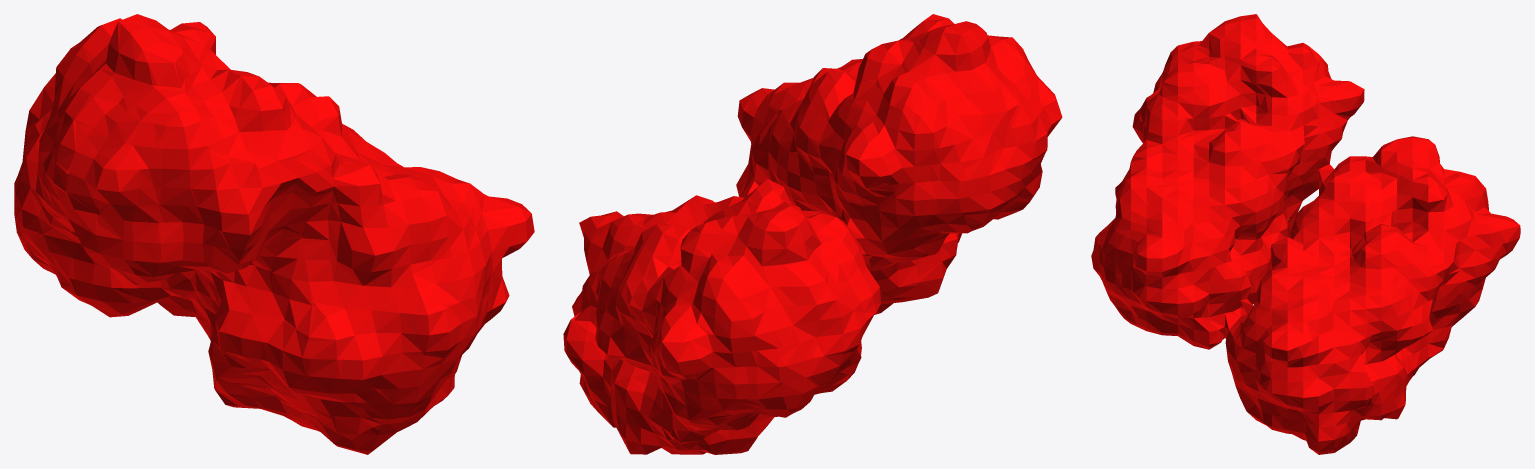
File: bglA_coarse.dae
3 views of the same model, side by side, from view 1: azimuth 30°, elevation 25°; view 2: azimuth 150°, elevation 25°; view 3: azimuth 270°, elevation 25° (orthographic). The views are drawn at different scales.
Visible parts, largest first — view 1: bglA; view 2: bglA; view 3: bglA.
Part boxes in pixels (bbox=[...]): bglA: bbox=[14, 14, 534, 454]; bglA: bbox=[563, 14, 1062, 454]; bglA: bbox=[1091, 14, 1520, 454].
Size of the model in its own units: 117 by 116 by 132.
